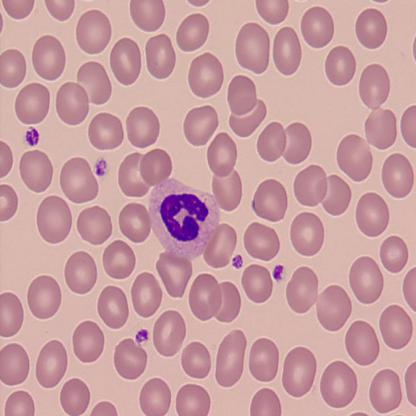Band Neutrophil: (145, 175, 223, 261)
